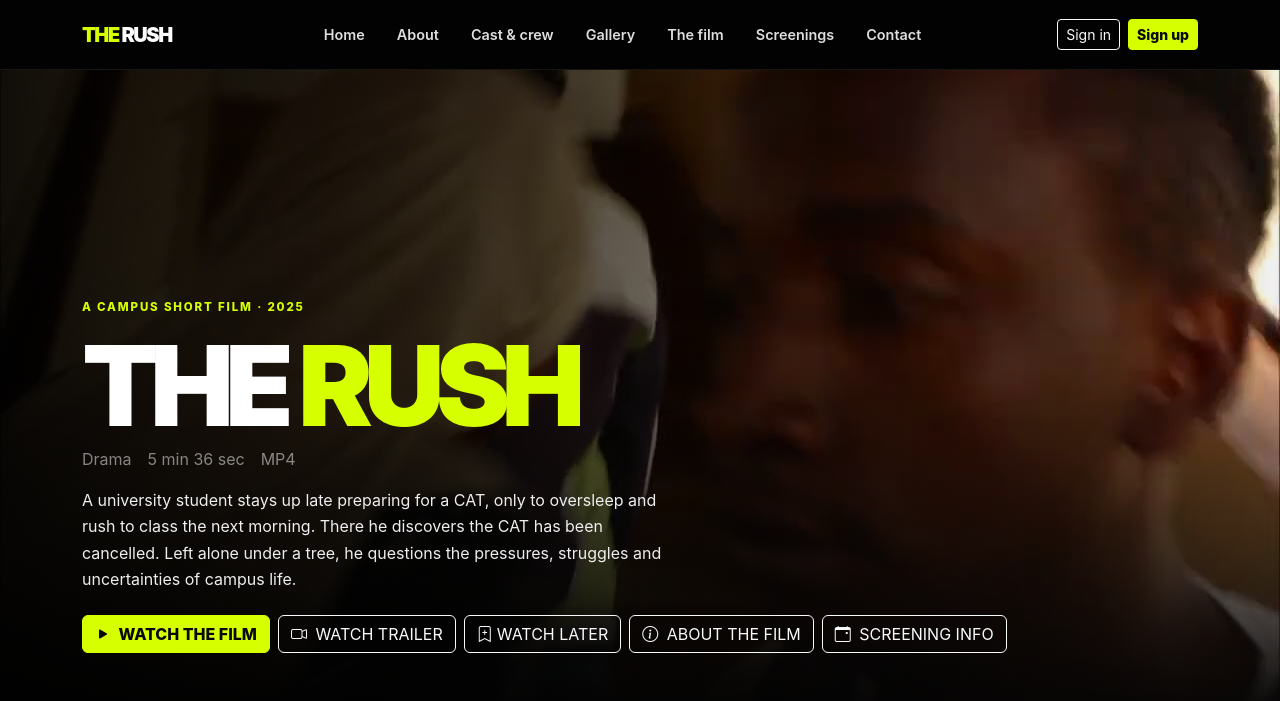
Test: navigates to the film information page
Click the link "About".
click(418, 34)  # box [397,26,439,43]
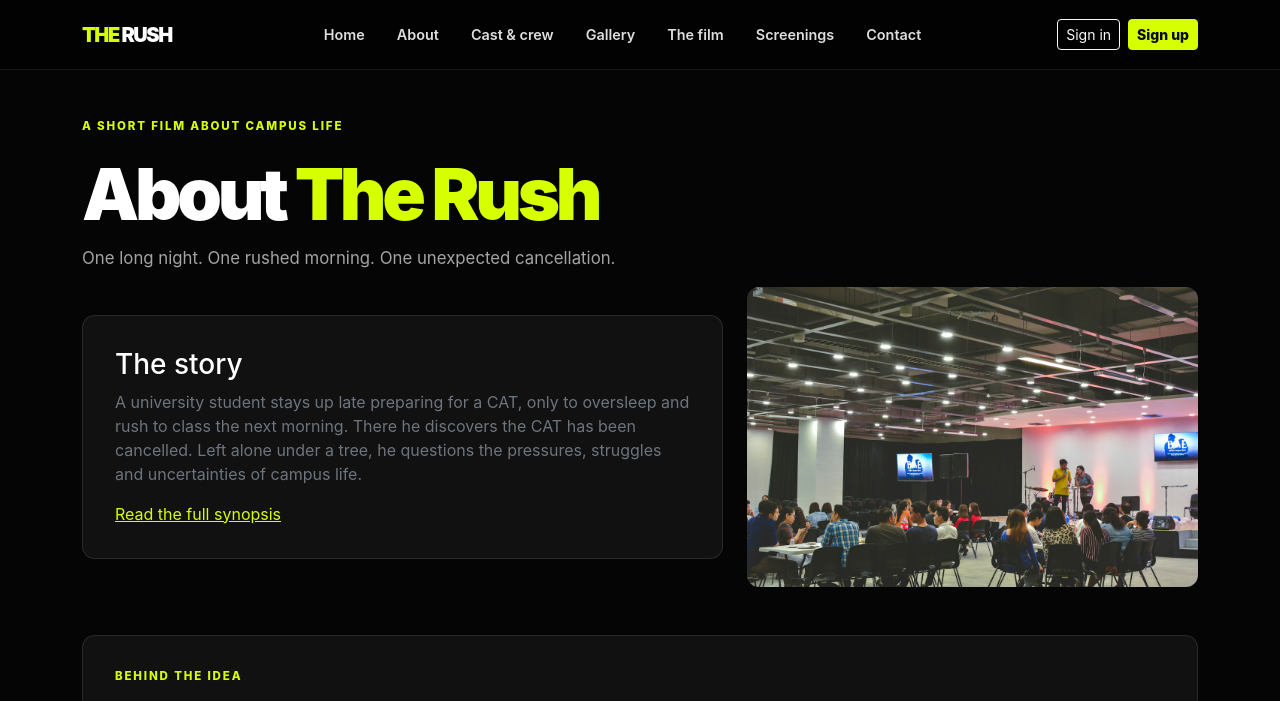
Now the heading "About The Rush" is shown, box [82,150,598,237]
